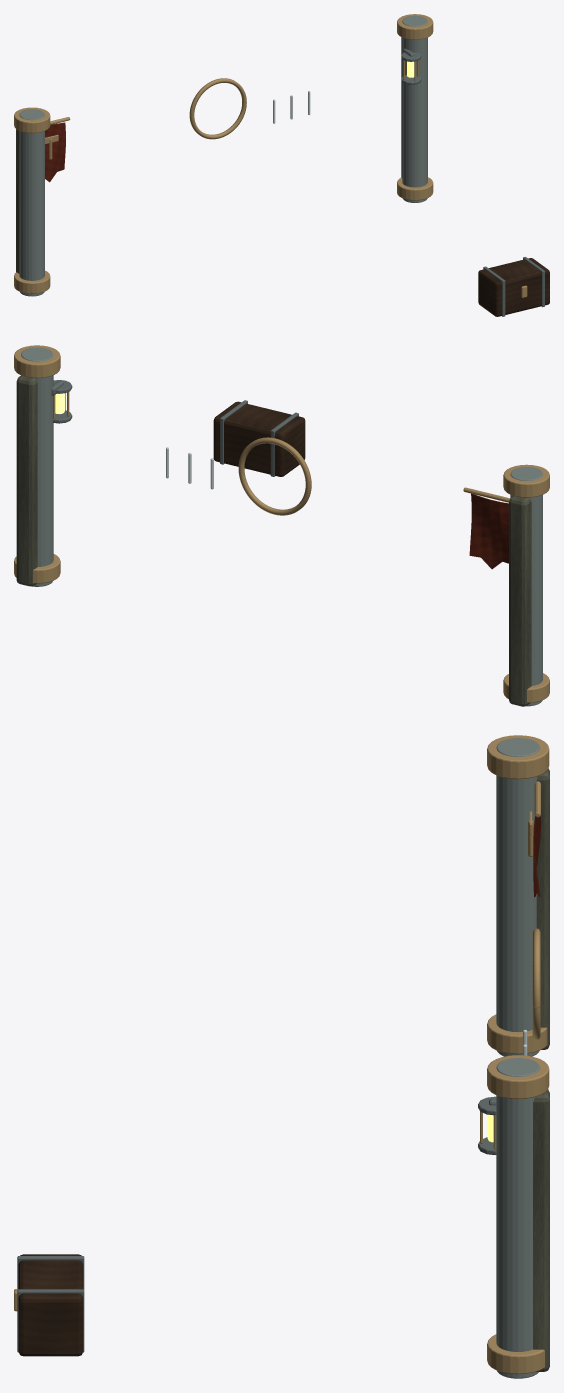
File: evolution-forge.glb
3 views of the same model, one above another, from view 1: azimuth 30°, elevation 25°; view 2: azimuth 150°, elevation 25°; view 3: azimuth 270°, elevation 25° (orthographic). The views are drawn at different scales.
Parts seen in each view (by area): view 1: Part_Charcoal slate.005, Part_Aged brass.016, Part_Oak honey.001, Part_Rival ochre.007, Part_Carved limestone.001, Part_Blackened iron; view 2: Part_Carved limestone.001, Part_Charcoal slate.005, Part_Aged brass.016, Part_Oak honey.001, Part_Rival ochre.007, Part_Blackened iron, Part_Blackened iron.003; view 3: Part_Charcoal slate.005, Part_Carved limestone.001, Part_Aged brass.016, Part_Oak honey.001, Part_Blackened iron.
Boxes of the visible parts, x1,y1,x2,y2 form: Part_Charcoal slate.005: (19, 15, 427, 296); Part_Aged brass.016: (14, 14, 433, 293); Part_Oak honey.001: (478, 258, 549, 316); Part_Rival ochre.007: (45, 122, 65, 182); Part_Carved limestone.001: (16, 37, 402, 273); Part_Blackened iron: (483, 257, 544, 316); Part_Carved limestone.001: (16, 375, 531, 706); Part_Charcoal slate.005: (21, 347, 542, 706); Part_Aged brass.016: (14, 345, 549, 702); Part_Oak honey.001: (213, 401, 305, 476); Part_Rival ochre.007: (469, 493, 508, 569); Part_Blackened iron: (220, 400, 298, 476); Part_Blackened iron.003: (51, 380, 72, 423); Part_Charcoal slate.005: (496, 738, 539, 1378); Part_Carved limestone.001: (533, 768, 549, 1371); Part_Aged brass.016: (487, 735, 549, 1374); Part_Oak honey.001: (18, 1254, 83, 1356); Part_Blackened iron: (17, 1256, 84, 1352).
Bounding box in the file's own units: 7.1 × 2.9 × 4.65.
8 materials, 3 textured.
